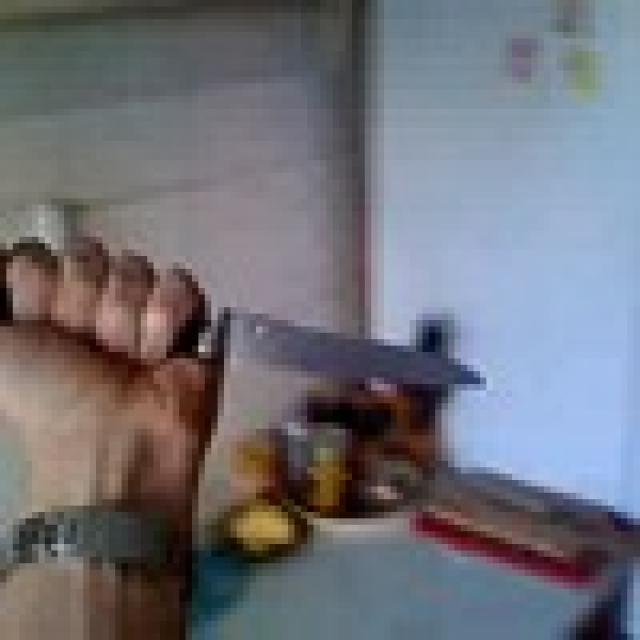Knife: (0, 243, 486, 396)
